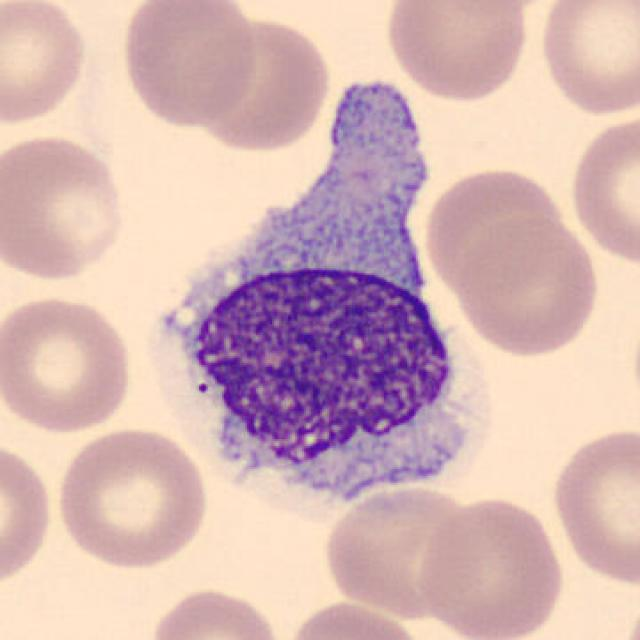Monocyte: (148, 75, 484, 507)
RBC: (52, 423, 214, 571), (318, 480, 486, 620), (414, 492, 567, 640), (452, 212, 602, 360), (185, 9, 336, 155), (0, 130, 132, 286), (0, 291, 139, 435), (420, 162, 567, 298), (117, 0, 261, 130), (382, 0, 534, 104), (546, 423, 638, 591), (535, 0, 638, 118), (0, 0, 92, 130), (566, 109, 638, 270), (0, 436, 57, 592), (144, 583, 288, 640), (280, 597, 430, 640), (425, 0, 565, 16)
